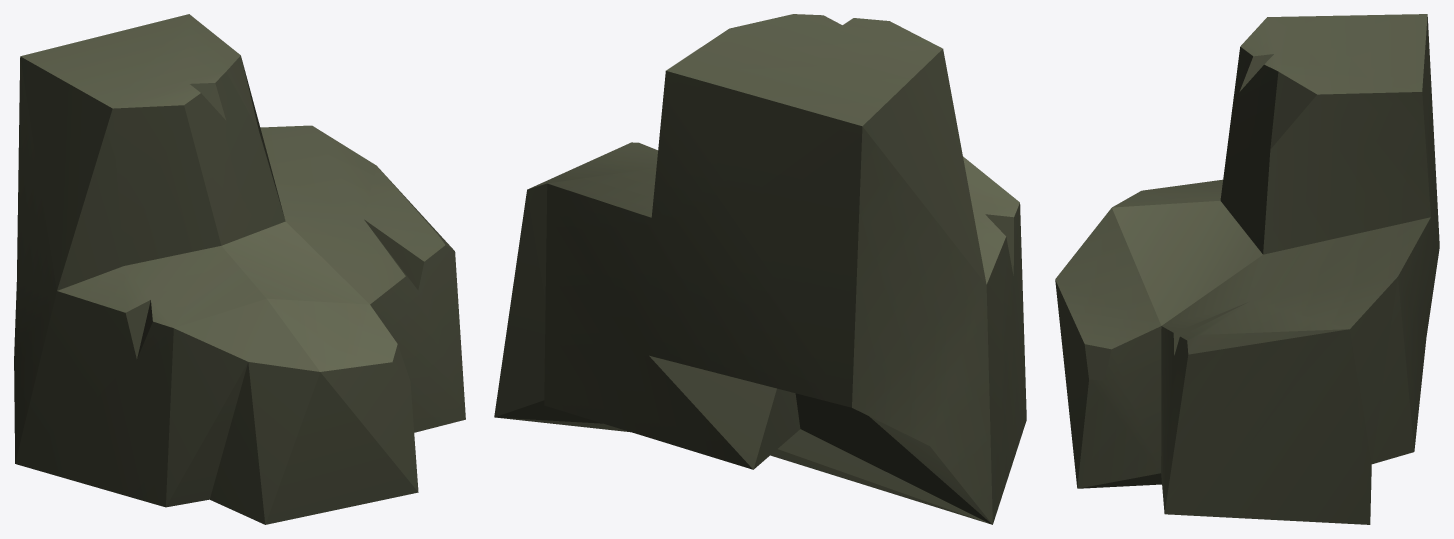
File: RockFace1.fbx
3 views of the same model, side by side, from view 1: azimuth 30°, elevation 25°; view 2: azimuth 150°, elevation 25°; view 3: azimuth 270°, elevation 25° (orthographic). The views are drawn at different scales.
Parts seen in each view (by area): view 1: Cube.001; view 2: Cube.001; view 3: Cube.001.
Part boxes in pixels (x1,y1,x2,y2): Cube.001: (14, 14, 465, 524); Cube.001: (494, 14, 1026, 524); Cube.001: (1055, 14, 1439, 524).
Bounding box in the file's own units: 434 × 392 × 367.
